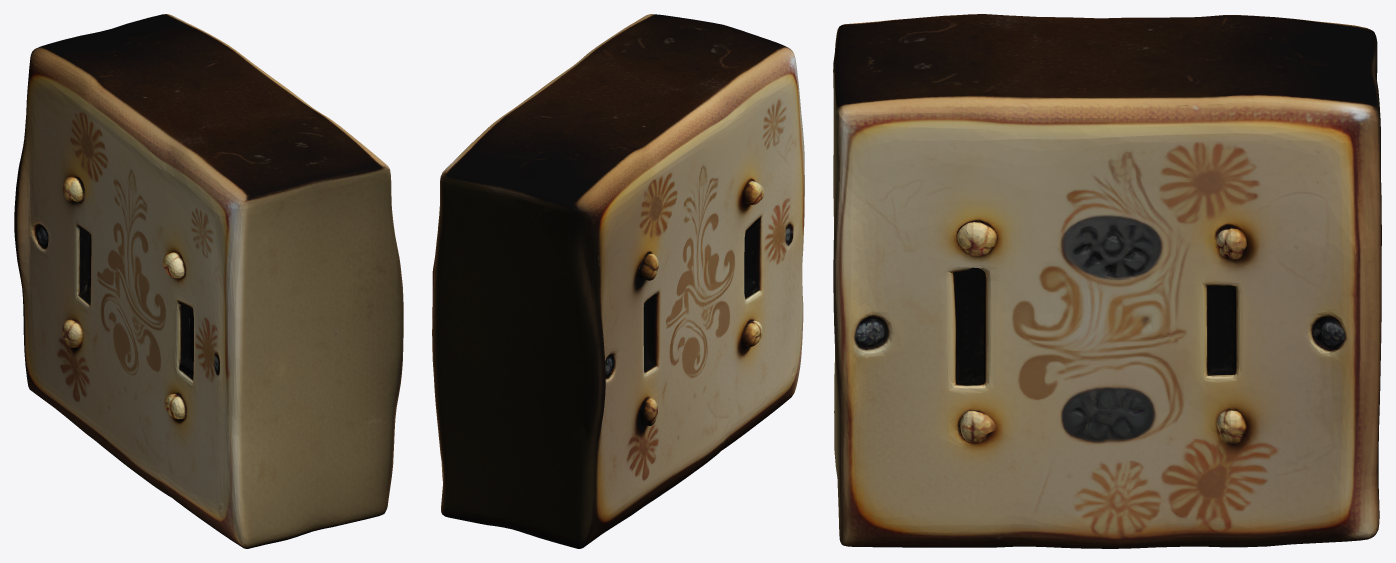
Rendered from ceramic-switch-cover-used-rustic-worn.jpeg.glb.
3 views of the same model, side by side, from view 1: azimuth 30°, elevation 25°; view 2: azimuth 150°, elevation 25°; view 3: azimuth 270°, elevation 25° (orthographic). The views are drawn at different scales.
Visible parts, largest first — view 1: world; view 2: world; view 3: world.
Part boxes in pixels (x1,y1,x2,y2): world: [14, 14, 403, 548]; world: [432, 14, 804, 548]; world: [833, 14, 1381, 548].
Size of the model in its own units: 0.4922 by 0.9122 by 0.9991.
1 material, 1 textured.
